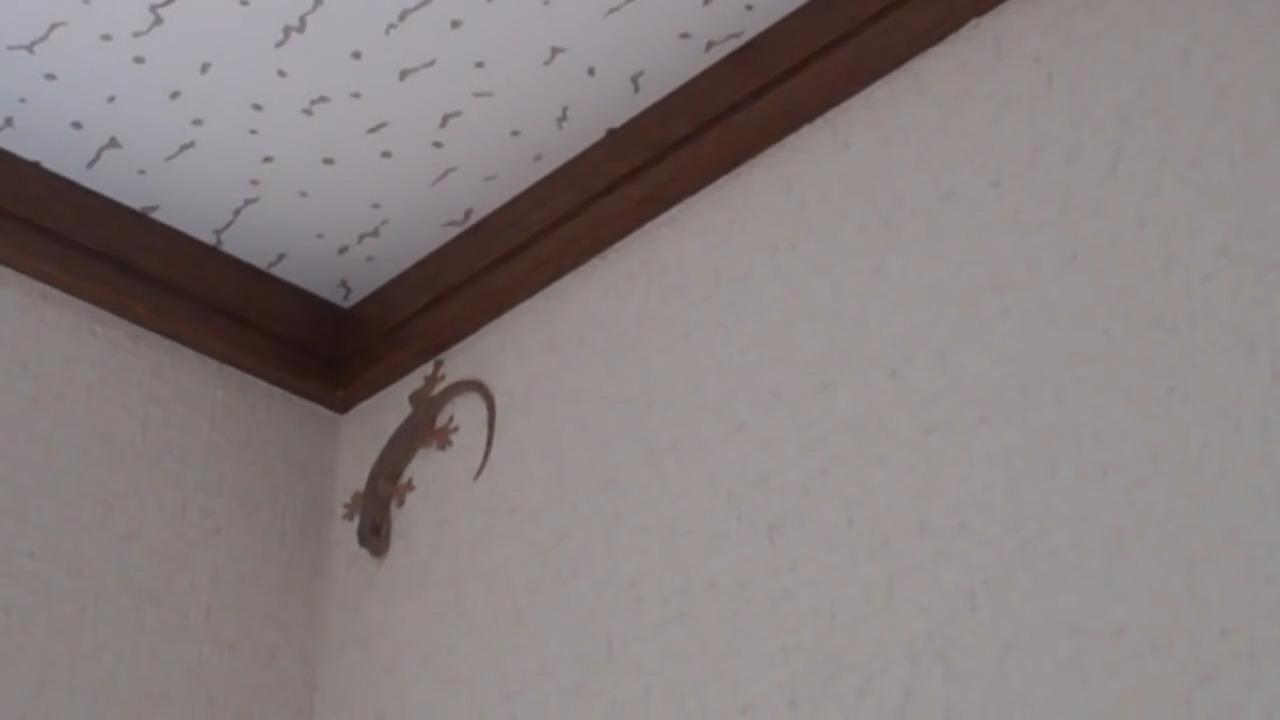lizard: (332, 348, 536, 570)
